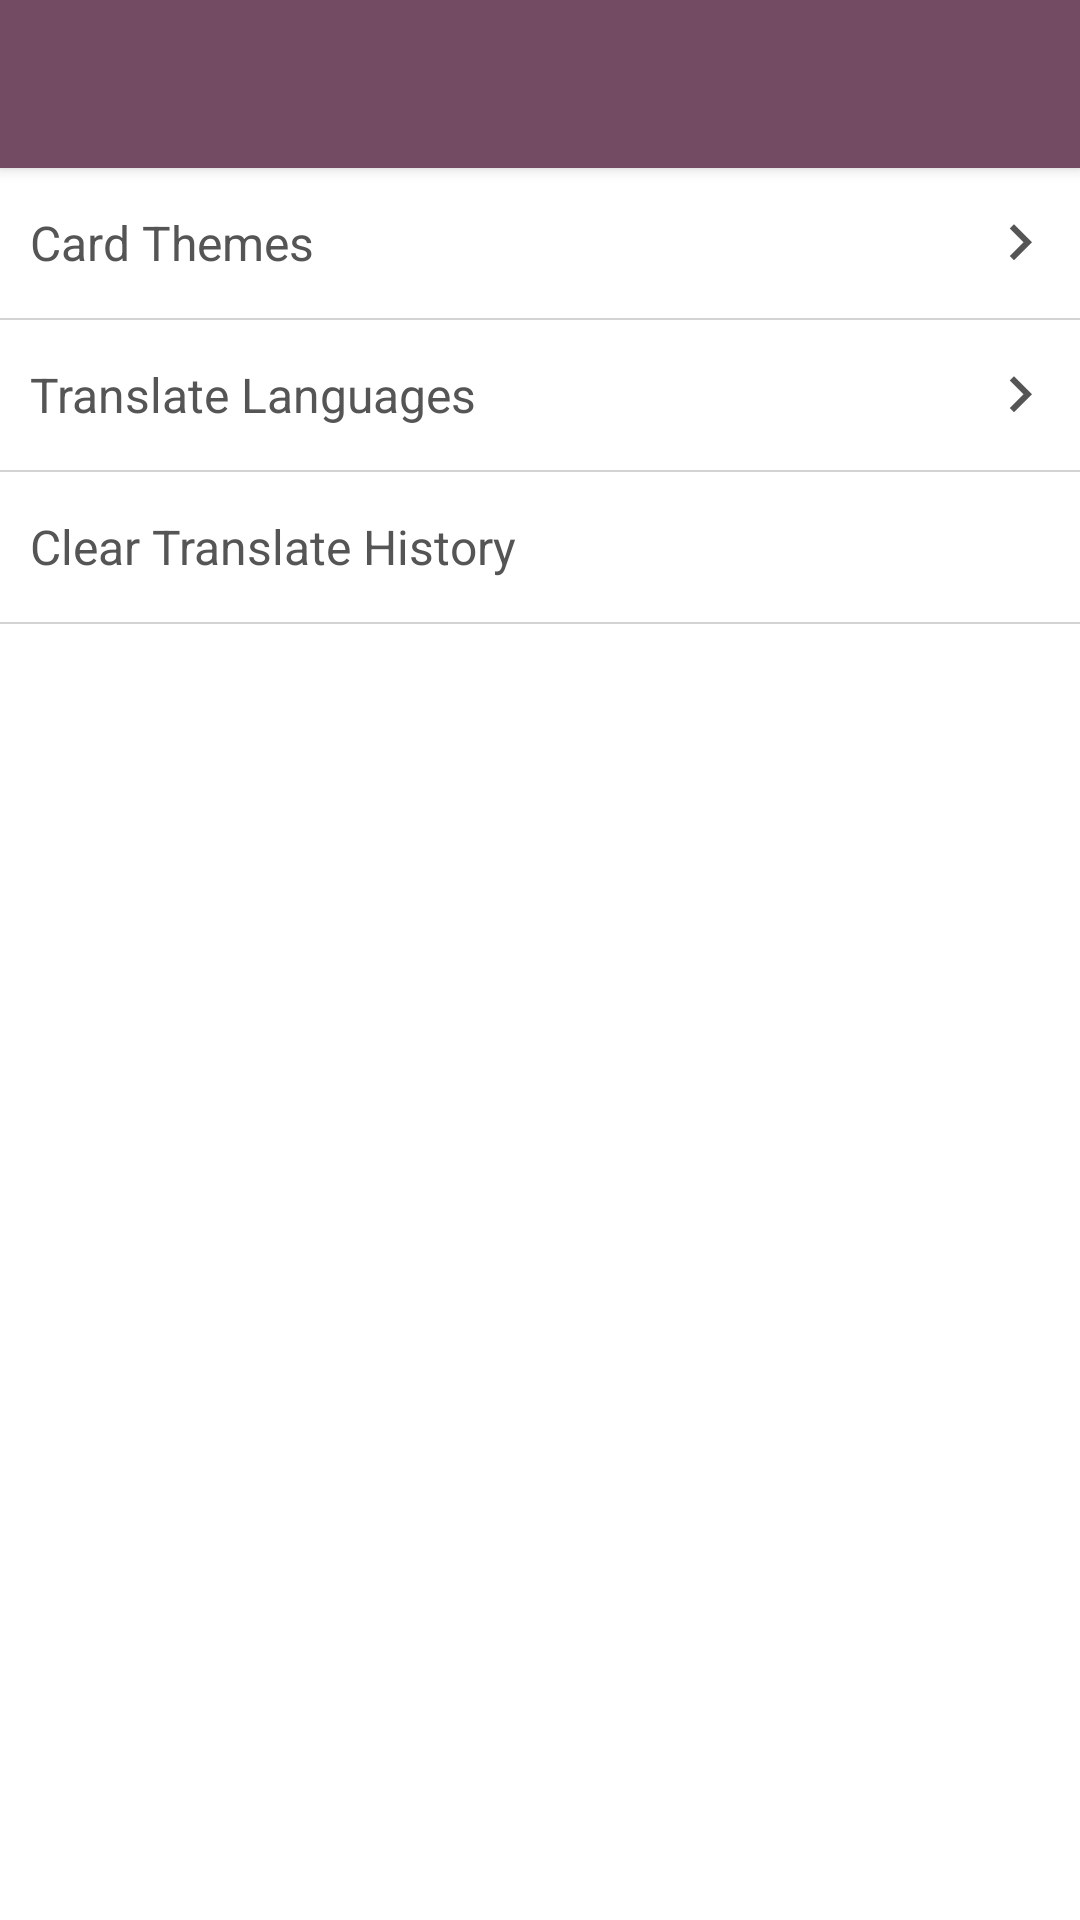

Named icons in this screenshot (1080 x 1920) and their centers, [x,y]:
hardware keyboard arrow right: [1021,242], [1021,394]
